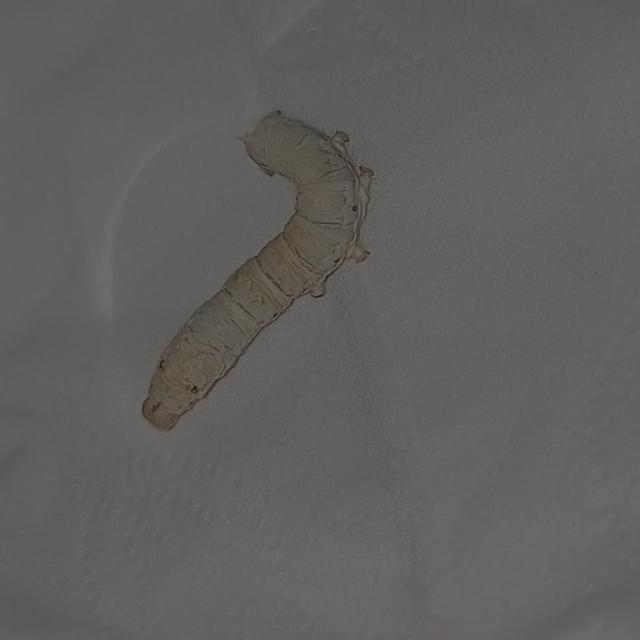Healthy: (136, 86, 394, 460)
